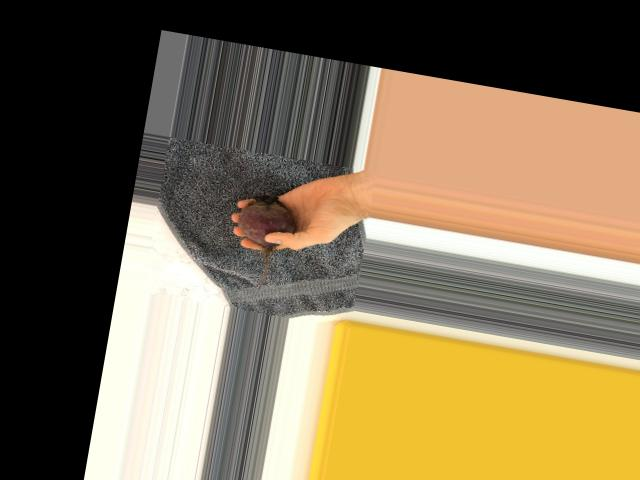beet: (226, 190, 299, 293)
